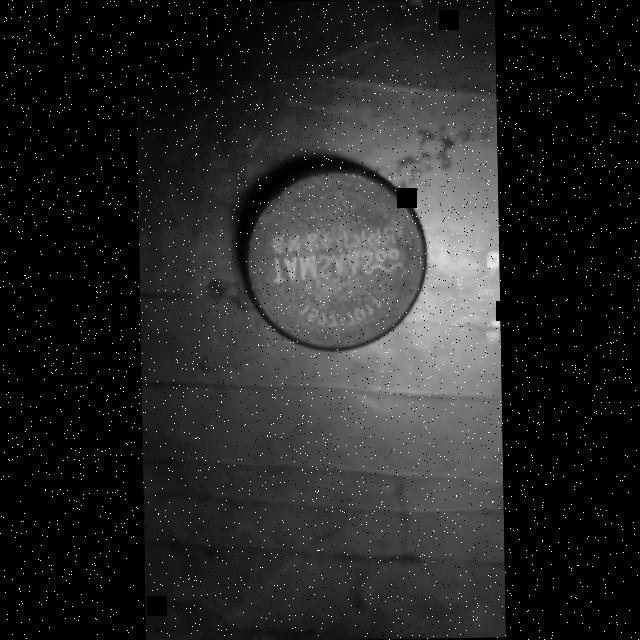plastic_bottle_cap: (235, 153, 430, 357)
